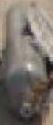cylinder: (1, 0, 53, 125)
